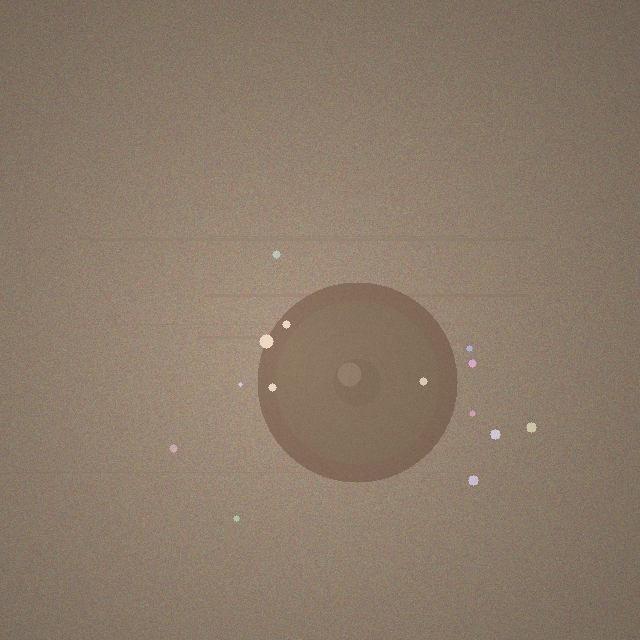overburn: (257, 282, 457, 482)
